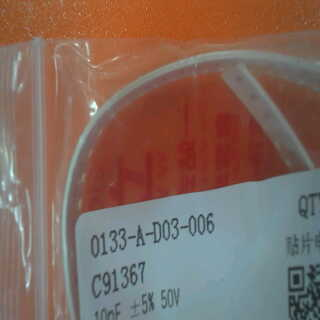10pF: (91, 296, 127, 320)
